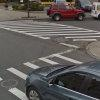Crosswalk: (8, 13, 85, 46)
